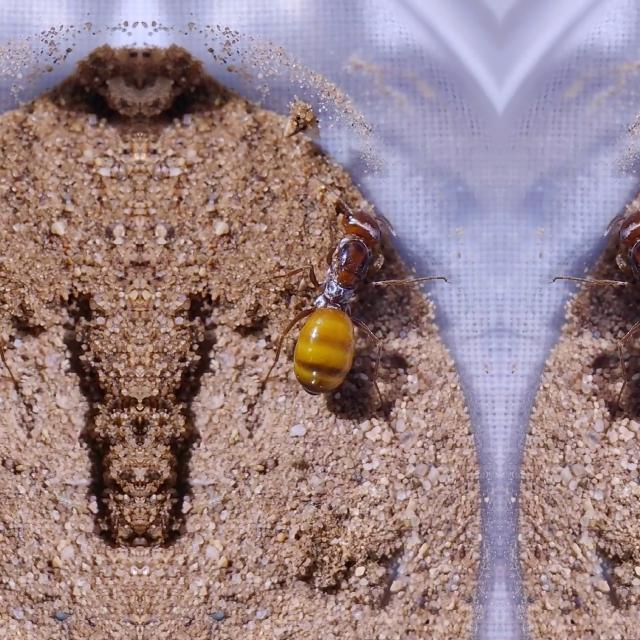Cataglyphis: (278, 192, 394, 412), (604, 192, 640, 412)
